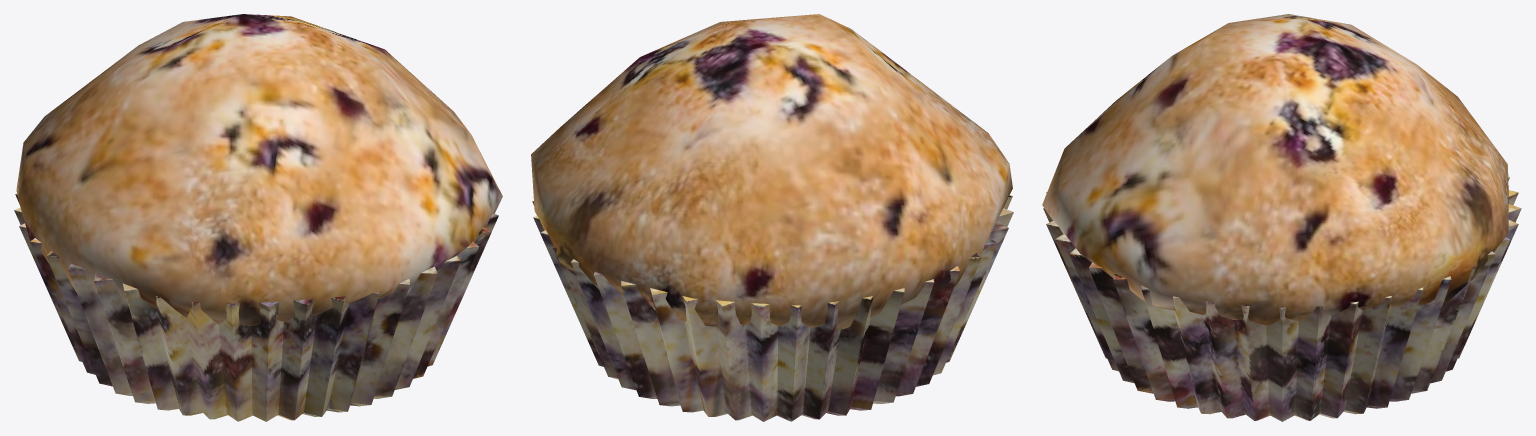
File: Cupcake.fbx
3 renders of one model, left to right at view 1: azimuth 30°, elevation 25°; view 2: azimuth 150°, elevation 25°; view 3: azimuth 270°, elevation 25°, orthographic.
Parts seen in each view (by area): view 1: Top, Cup; view 2: Top, Cup; view 3: Top, Cup.
Part boxes in pixels (x1,y1,x2,y2): Top: (16, 14, 502, 325); Cup: (14, 193, 498, 421); Top: (531, 14, 1012, 329); Cup: (532, 195, 1013, 421); Top: (1042, 14, 1508, 325); Cup: (1043, 177, 1521, 421).
Size of the model in its own units: 511 by 373 by 512.
